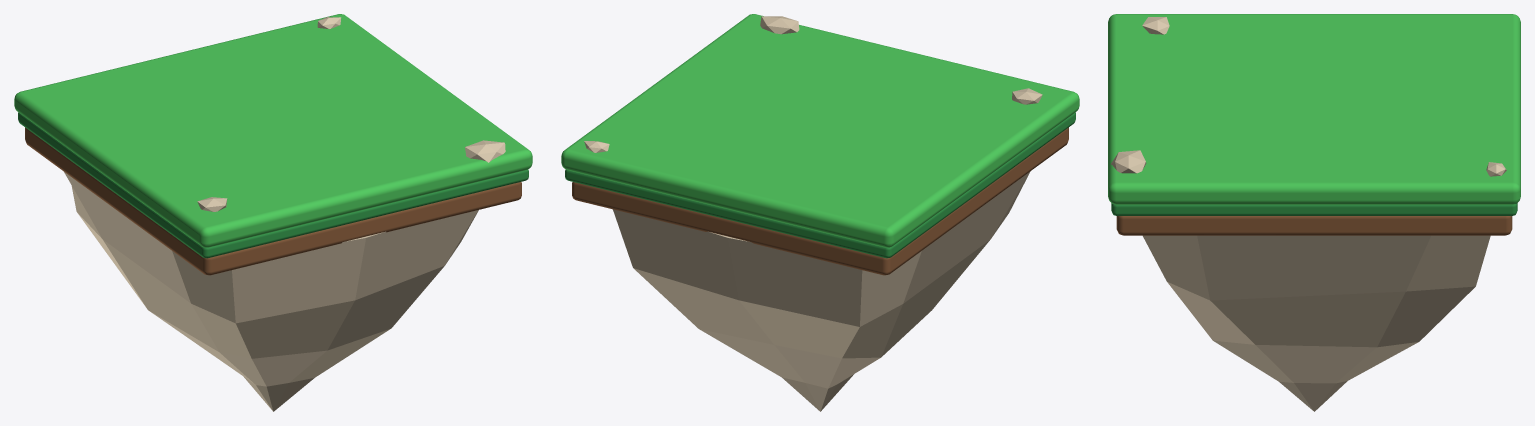
File: PLAT_Isle_Wide.glb
3 views of the same model, side by side, from view 1: azimuth 30°, elevation 25°; view 2: azimuth 150°, elevation 25°; view 3: azimuth 270°, elevation 25° (orthographic). The views are drawn at different scales.
Visible parts, largest first — view 1: Top, Underside, Soil, TopLip, Pebble_2; view 2: Top, Underside, Soil, TopLip, Pebble_2; view 3: Top, Underside, Soil, TopLip, Pebble_2, Pebble_1.
Boxes of the visible parts, x1=… form: Top: x1=14, y1=14, x2=532, y2=247; Underside: x1=64, y1=172, x2=478, y2=411; Soil: x1=25, y1=127, x2=521, y2=275; TopLip: x1=18, y1=112, x2=528, y2=258; Pebble_2: x1=465, y1=140, x2=505, y2=162; Top: x1=561, y1=14, x2=1079, y2=247; Underside: x1=613, y1=171, x2=1030, y2=411; Soil: x1=572, y1=127, x2=1068, y2=275; TopLip: x1=565, y1=112, x2=1075, y2=258; Pebble_2: x1=760, y1=16, x2=799, y2=34; Top: x1=1108, y1=14, x2=1520, y2=204; Underside: x1=1143, y1=235, x2=1490, y2=411; Soil: x1=1116, y1=216, x2=1512, y2=235; TopLip: x1=1111, y1=203, x2=1517, y2=215; Pebble_2: x1=1111, y1=150, x2=1146, y2=173; Pebble_1: x1=1142, y1=17, x2=1169, y2=34.
Bounding box in the file's own units: 6 × 5.18 × 6.
